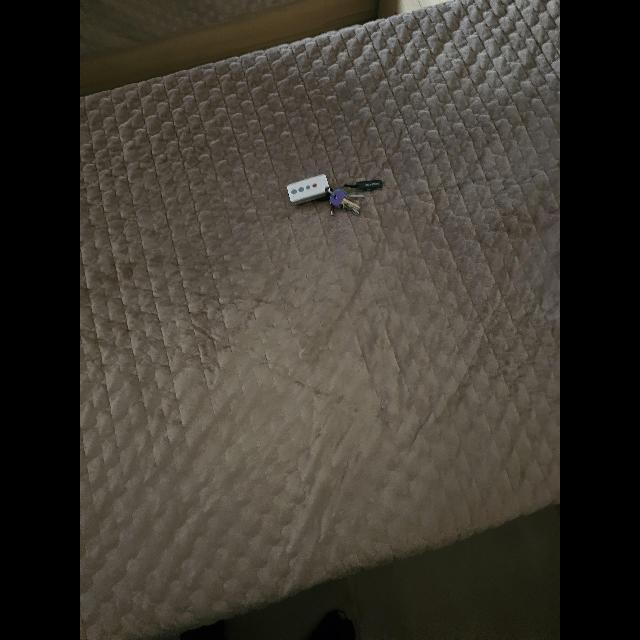Keys: (286, 171, 382, 219)
